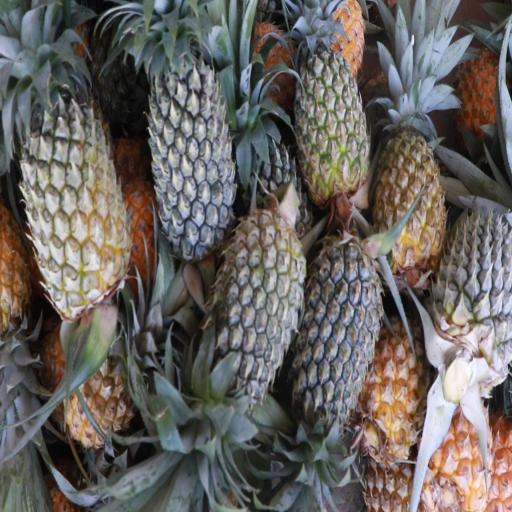------------------------------: (14, 42, 126, 300), (292, 9, 367, 197)
Pineapple - v8 v1: (374, 68, 448, 275), (66, 316, 165, 448), (363, 310, 441, 466), (420, 393, 498, 512)
